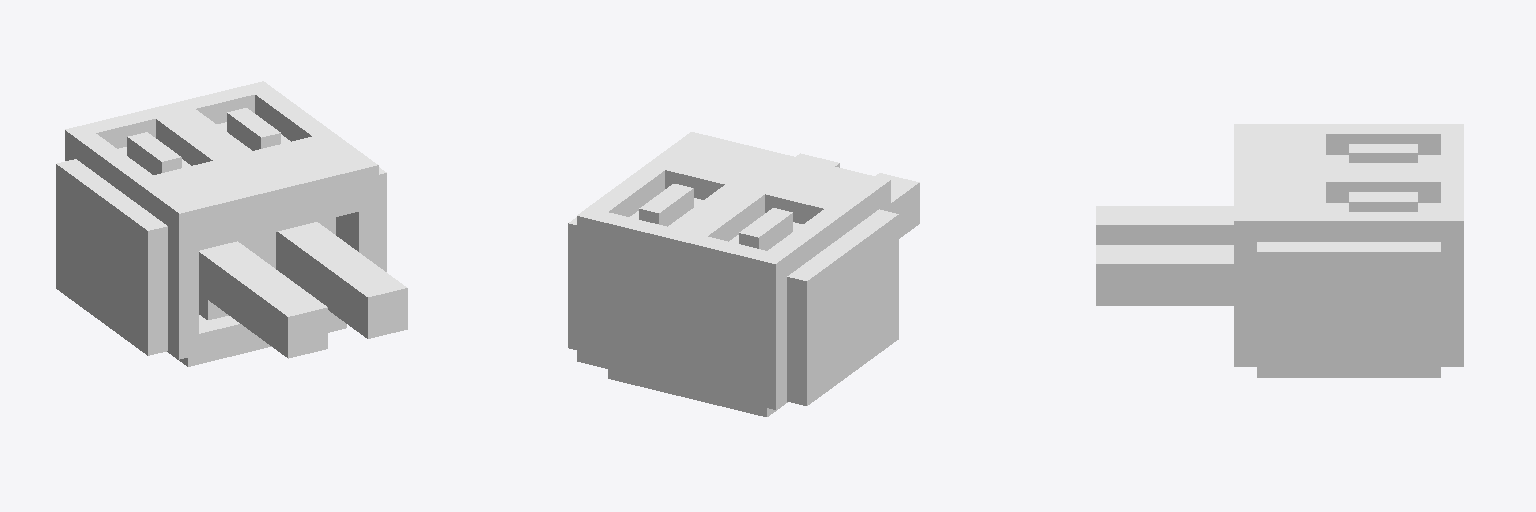
The model's file is tank_turret_fast.obj.
3 renders of one model, left to right at view 1: azimuth 30°, elevation 25°; view 2: azimuth 150°, elevation 25°; view 3: azimuth 270°, elevation 25°, orthographic.
Visible parts, largest first — view 1: object 1; view 2: object 1; view 3: object 1.
Part boxes in pixels (bbox=[...]): object 1: bbox=[56, 81, 407, 366]; object 1: bbox=[568, 132, 919, 416]; object 1: bbox=[1096, 124, 1463, 377].
Size of the model in its own units: 1.2 by 0.8 by 1.6.